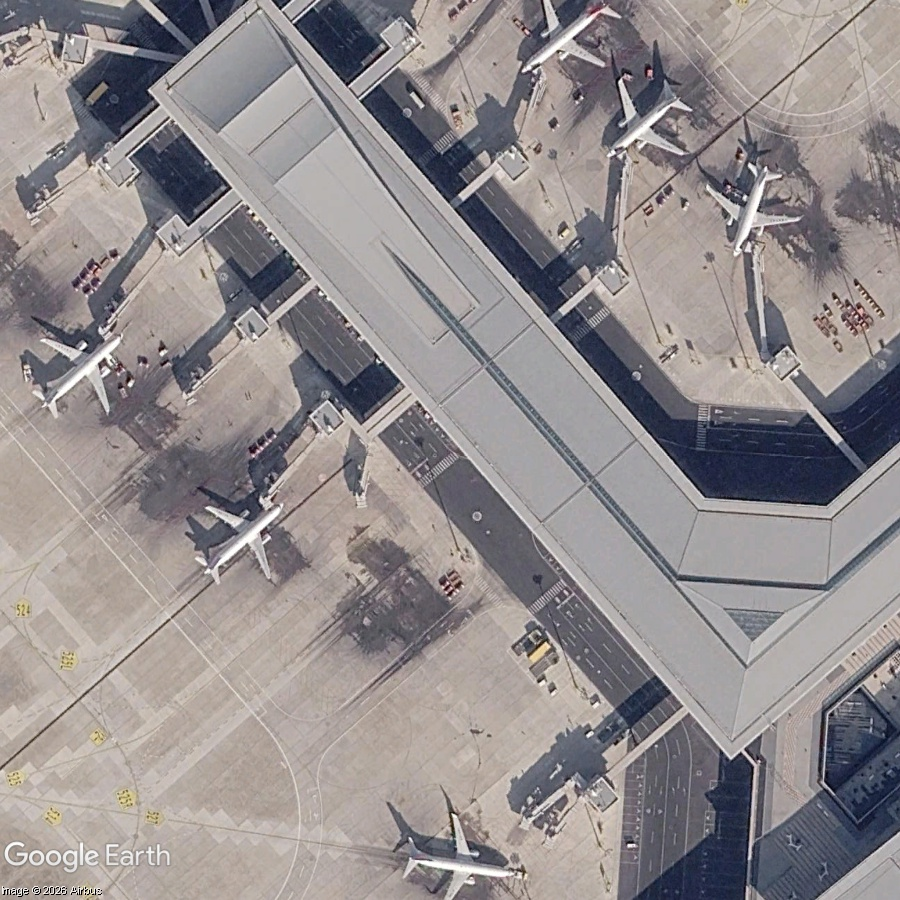Máy bay dân dụng: (5, 296, 156, 447), (169, 465, 317, 612), (574, 54, 717, 198), (685, 146, 817, 274), (490, 0, 641, 111), (395, 802, 528, 900)
